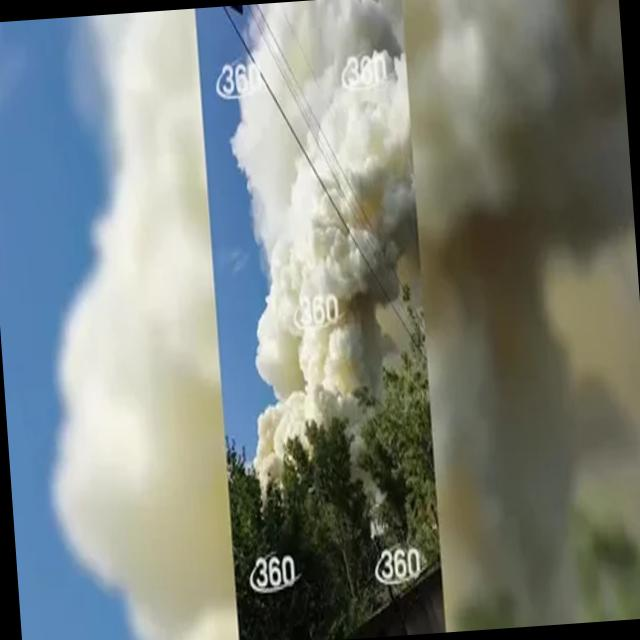Smoke: (220, 0, 433, 483)
